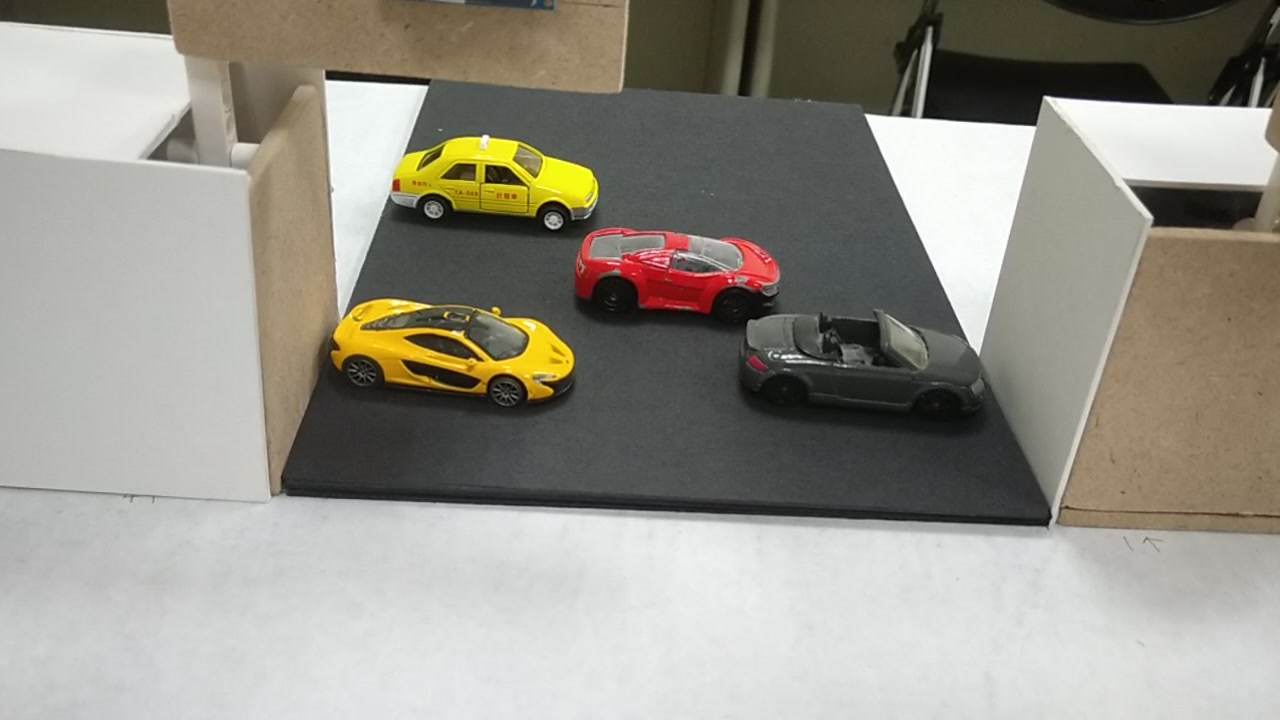car: (329, 301, 574, 413), (741, 319, 981, 423), (389, 142, 598, 226), (577, 227, 779, 313)
